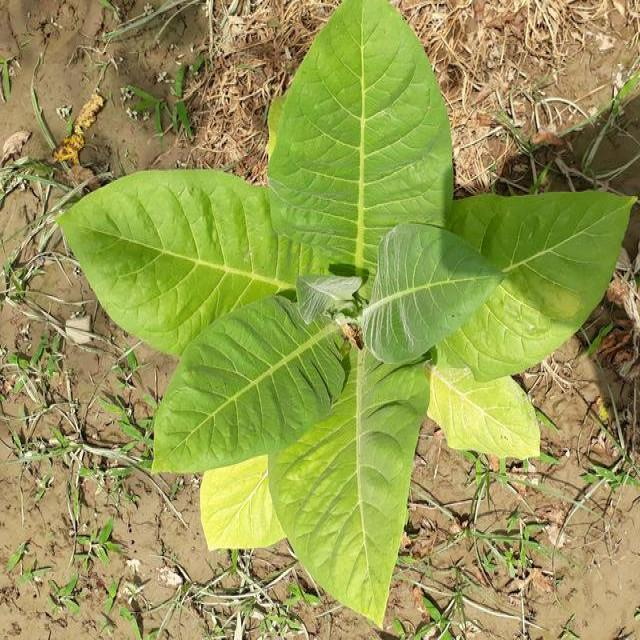crop: (66, 9, 620, 624)
